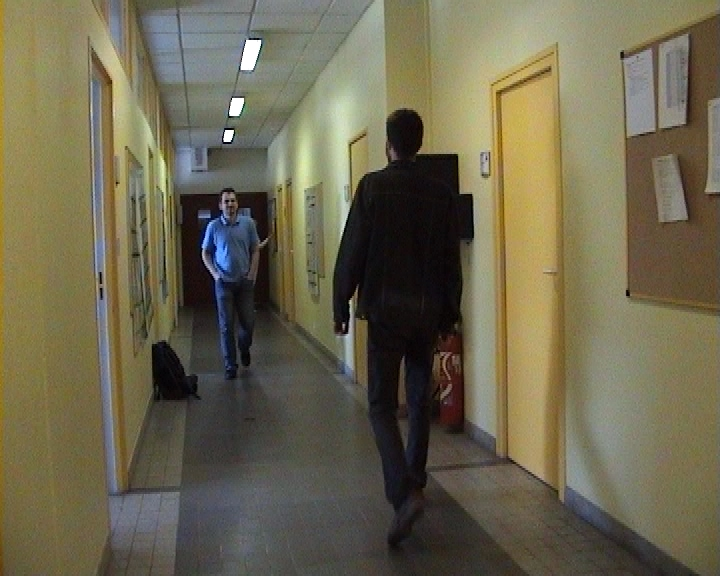leave bag unattended: (140, 156, 293, 488)
